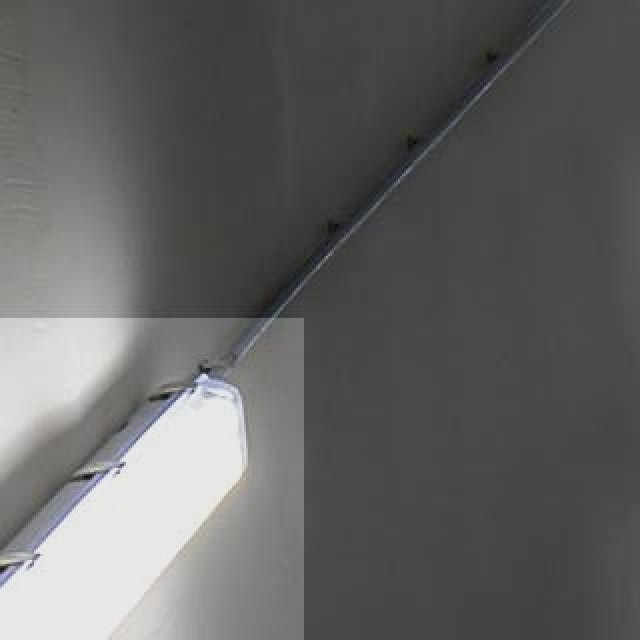fluorescent tube: (0, 340, 282, 640)
